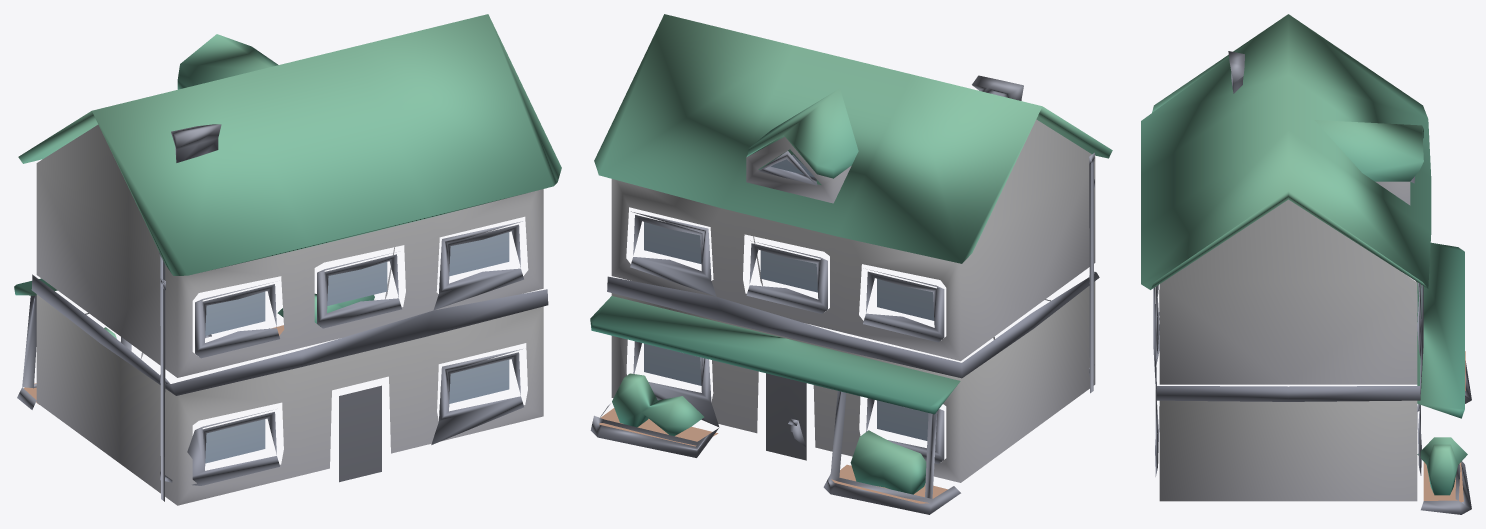
3 renders of one model, left to right at view 1: azimuth 30°, elevation 25°; view 2: azimuth 150°, elevation 25°; view 3: azimuth 270°, elevation 25°, orthographic. The views are drawn at different scales.
Size of the model in its own units: 10.4 by 9.1 by 8.22.
